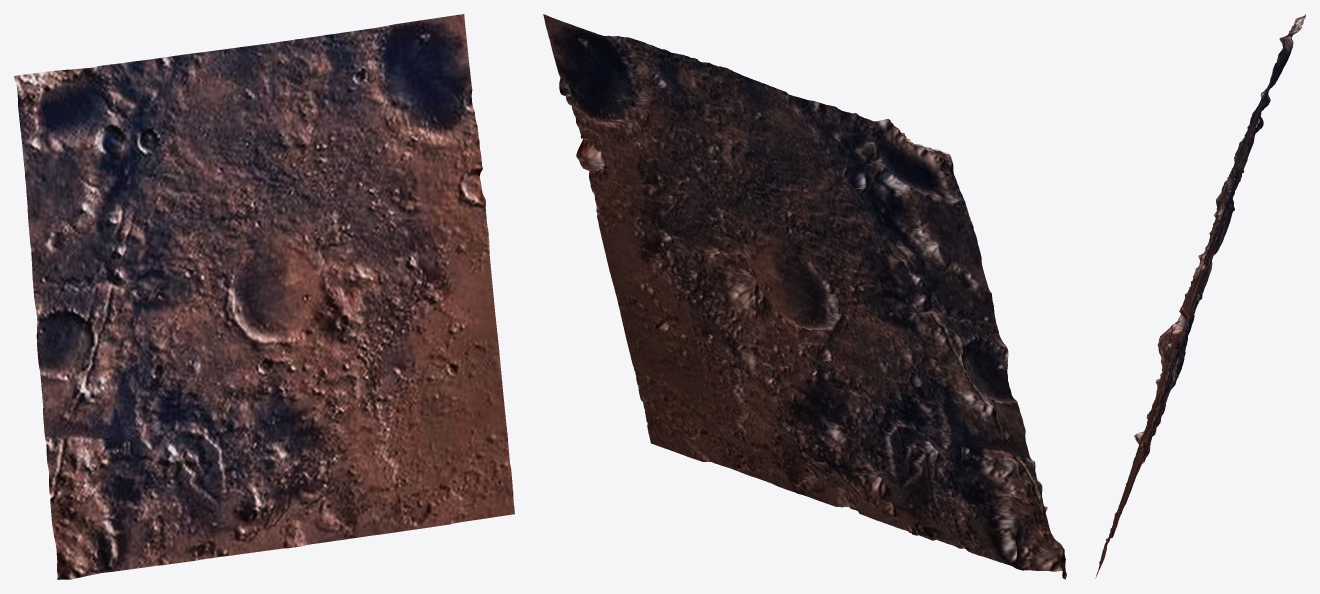
File: patch_jezero.glb
3 renders of one model, left to right at view 1: azimuth 30°, elevation 25°; view 2: azimuth 150°, elevation 25°; view 3: azimuth 270°, elevation 25°, orthographic. The views are drawn at different scales.
Visible parts, largest first — view 1: Parche_Jezero_HD; view 2: Parche_Jezero_HD; view 3: Parche_Jezero_HD.
Part boxes in pixels (x1=…): Parche_Jezero_HD: x1=14, y1=14, x2=514, y2=579; Parche_Jezero_HD: x1=543, y1=14, x2=1066, y2=579; Parche_Jezero_HD: x1=1095, y1=14, x2=1305, y2=578.
Size of the model in its own units: 0.237 by 0.2301 by 0.1094.
1 material, 1 textured.
